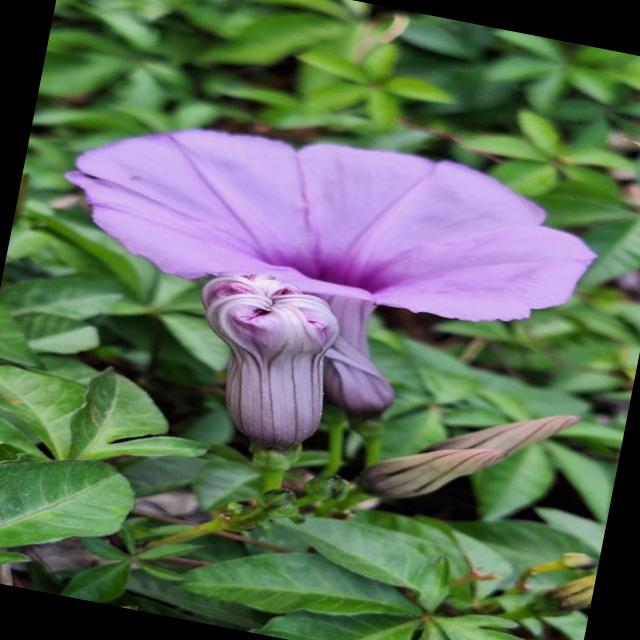ipomoea: (19, 86, 614, 505), (169, 261, 357, 462)
